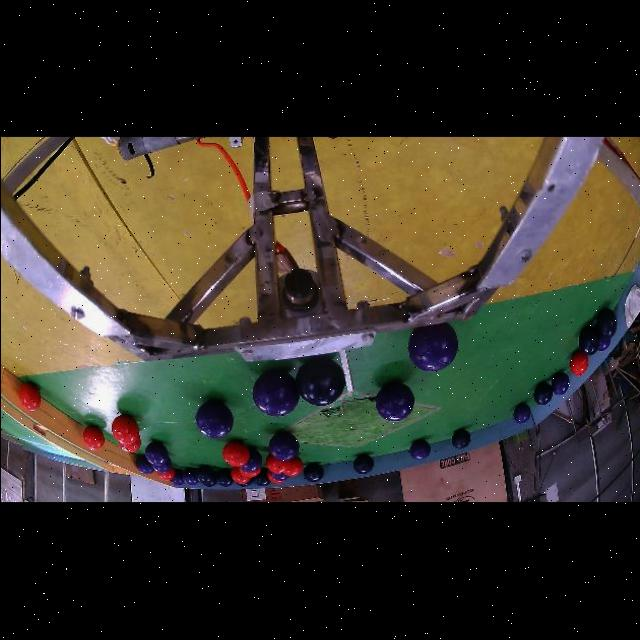B: (295, 356, 345, 406), (578, 326, 599, 355), (596, 308, 616, 337), (239, 447, 262, 472), (533, 381, 552, 406), (352, 454, 373, 474), (303, 463, 323, 482), (451, 428, 469, 449), (195, 465, 214, 484), (215, 468, 233, 487), (252, 470, 268, 487)
P: (407, 323, 458, 371), (252, 370, 299, 417), (375, 382, 413, 422), (195, 401, 233, 439), (268, 431, 298, 460), (239, 447, 262, 472), (144, 441, 167, 465), (408, 440, 430, 460), (550, 373, 568, 395), (512, 403, 530, 423), (135, 455, 153, 474), (251, 468, 268, 487), (181, 467, 197, 486), (152, 458, 171, 473), (597, 337, 610, 351), (268, 472, 287, 481)
R: (265, 454, 303, 477), (111, 414, 138, 445), (221, 441, 249, 467), (18, 383, 40, 411), (82, 426, 103, 450), (569, 351, 587, 375), (117, 437, 140, 453), (266, 470, 284, 484), (157, 468, 174, 481), (252, 477, 257, 484)
